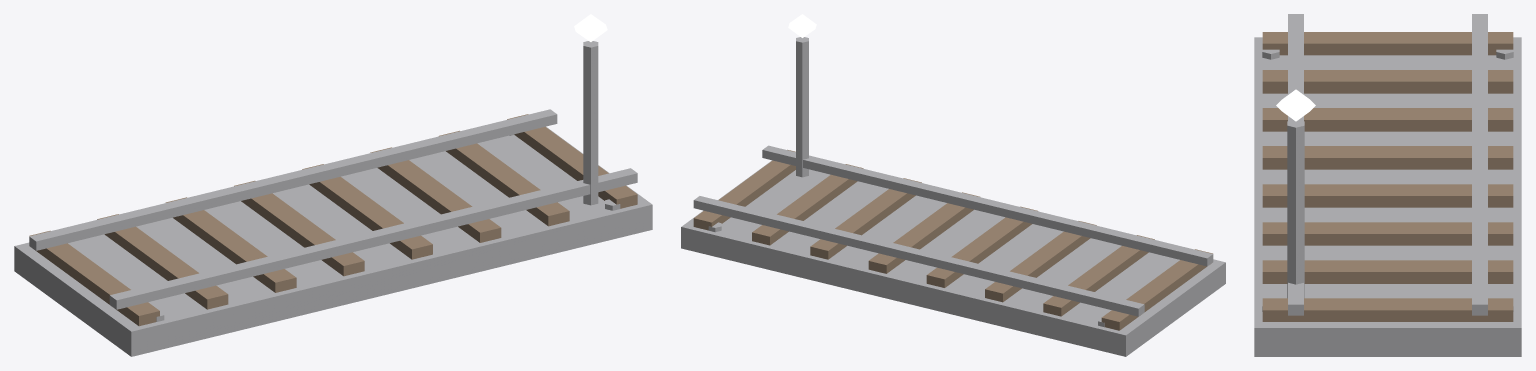
File: rail_track_rare.glb
3 views of the same model, side by side, from view 1: azimuth 30°, elevation 25°; view 2: azimuth 150°, elevation 25°; view 3: azimuth 270°, elevation 25° (orthographic). The views are drawn at different scales.
Visible parts, largest first — view 1: rail_track; view 2: rail_track; view 3: rail_track.
Part boxes in pixels (<box>): rail_track: <box>14,14,652,356</box>; rail_track: <box>681,14,1225,356</box>; rail_track: <box>1254,14,1521,356</box>.
Size of the model in its own units: 3.46 by 1.35 by 1.34.
